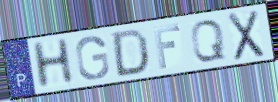D: (111, 28, 150, 79)
F: (151, 23, 182, 71)
G: (74, 34, 111, 81)
H: (29, 36, 77, 91)
Q: (189, 18, 228, 64)
X: (226, 8, 267, 63)
